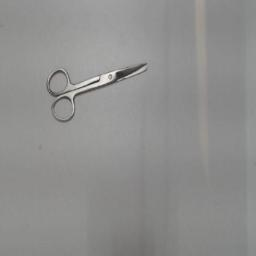Dressing Scissors: (40, 56, 152, 132)
